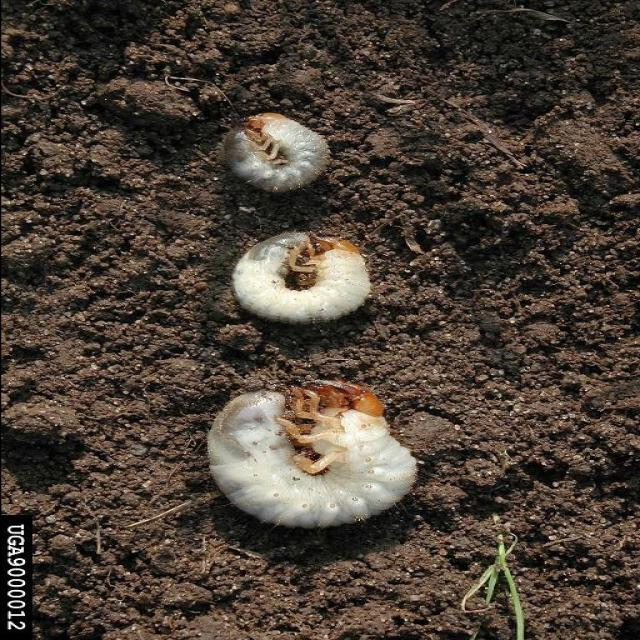grub: (205, 380, 422, 542), (228, 228, 373, 327), (230, 111, 337, 203)
